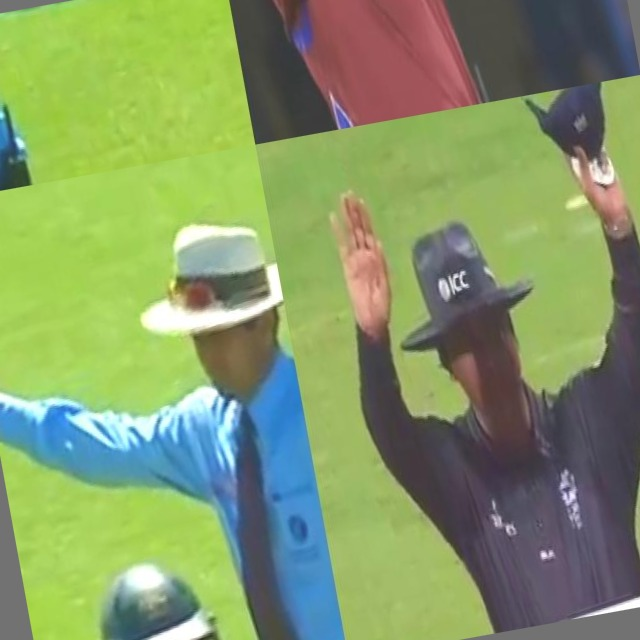No_Ball: (0, 0, 251, 199)
Six: (272, 75, 640, 640), (224, 0, 567, 145)
Wide: (0, 156, 341, 640)
